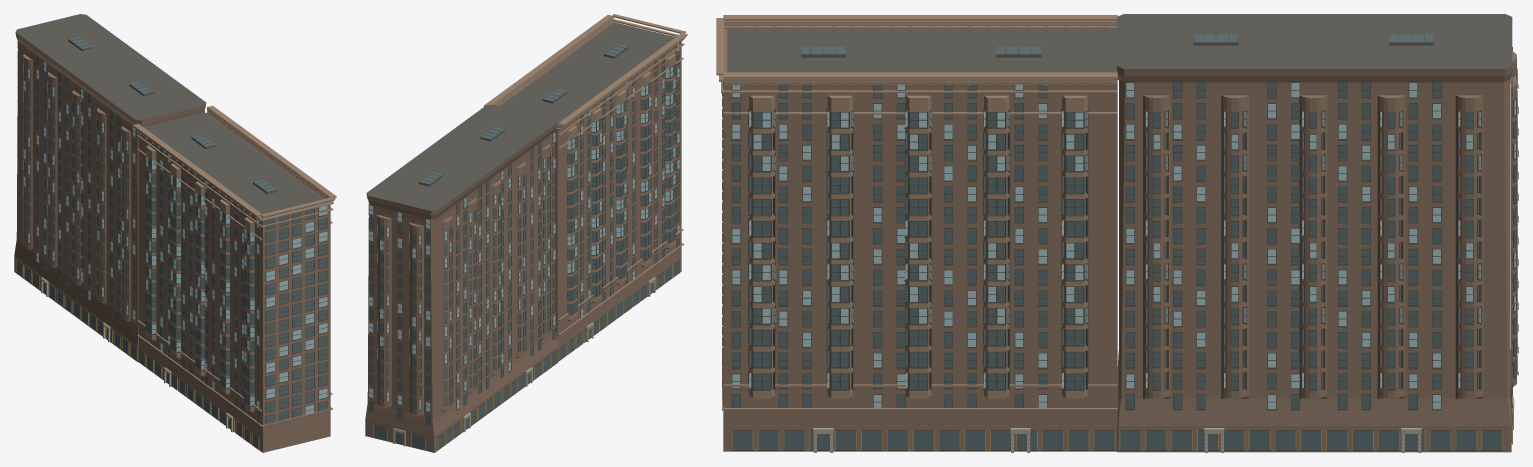
Rendered from monadnock_building.glb.
3 renders of one model, left to right at view 1: azimuth 30°, elevation 25°; view 2: azimuth 150°, elevation 25°; view 3: azimuth 270°, elevation 25°, orthographic. The views are drawn at different scales.
Visible parts, largest first — view 1: Dark brown molded brick, Dark wood double hung sash, Unoccupied office glass, Southern brown terra cotta, Flat roof and skylight frames, Night occupied office glass, Ochre retail door frames, Entrance limestone blocks; view 2: Dark brown molded brick, Dark wood double hung sash, Unoccupied office glass, Southern brown terra cotta, Flat roof and skylight frames, Night occupied office glass, Ochre retail door frames, Entrance limestone blocks; view 3: Dark brown molded brick, Unoccupied office glass, Dark wood double hung sash, Southern brown terra cotta, Night occupied office glass, Flat roof and skylight frames, Ochre retail door frames, Entrance limestone blocks.
Part boxes in pixels (x1,y1,x2,y2): Dark brown molded brick: [14, 14, 330, 452]; Dark wood double hung sash: [16, 38, 328, 449]; Unoccupied office glass: [16, 36, 327, 448]; Southern brown terra cotta: [133, 105, 336, 426]; Flat roof and skylight frames: [68, 39, 327, 218]; Night occupied office glass: [23, 61, 327, 414]; Ochre retail door frames: [16, 259, 259, 449]; Entrance limestone blocks: [40, 277, 233, 432]; Dark brown molded brick: [365, 22, 681, 452]; Dark wood double hung sash: [368, 44, 680, 449]; Unoccupied office glass: [369, 44, 679, 449]; Southern brown terra cotta: [484, 14, 687, 335]; Flat roof and skylight frames: [419, 22, 675, 218]; Night occupied office glass: [369, 43, 679, 411]; Ochre retail door frames: [373, 260, 680, 449]; Entrance limestone blocks: [393, 277, 655, 446]; Dark brown molded brick: [723, 14, 1516, 452]; Unoccupied office glass: [732, 34, 1515, 449]; Dark wood double hung sash: [722, 34, 1518, 450]; Southern brown terra cotta: [716, 15, 1117, 410]; Night occupied office glass: [732, 75, 1515, 409]; Flat roof and skylight frames: [727, 28, 1507, 79]; Ochre retail door frames: [732, 394, 1514, 450]; Entrance limestone blocks: [813, 396, 1513, 452].
Bounding box in the file's own units: 22.7 × 66.15 × 124.
